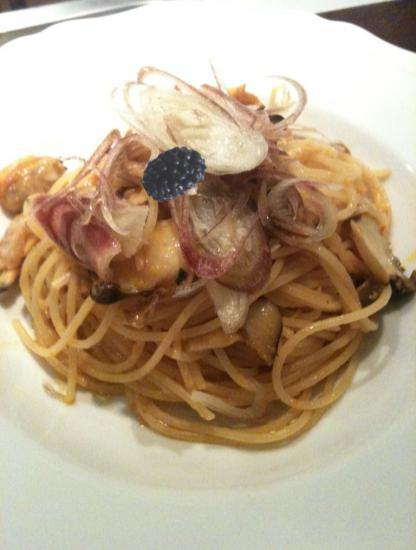Mulberry: (141, 140, 208, 207)
